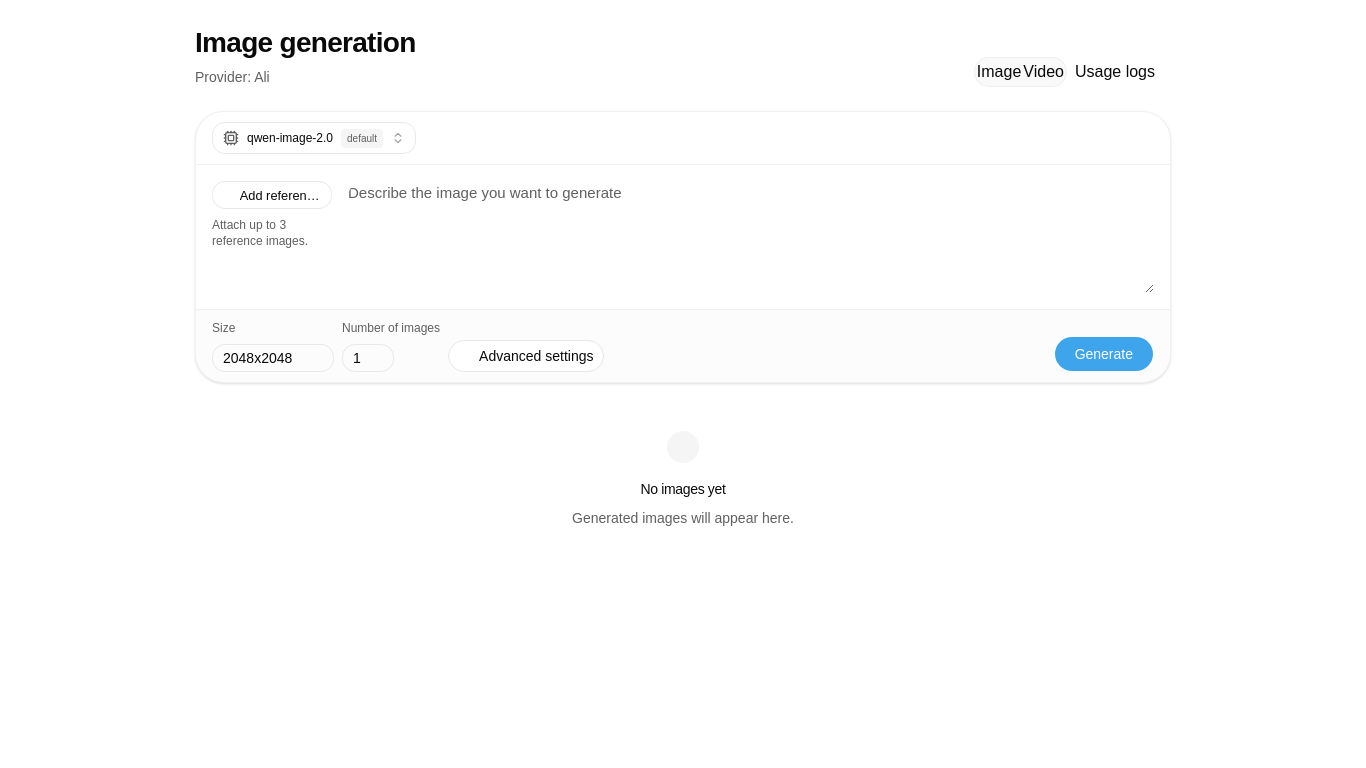
ImagePlayground form › shows the OpenAI error.message from generateImages
Type "a red apple" into the text box with placeholder "Describe the image you want to generate" at (751, 237), box [348,181,1154,293]
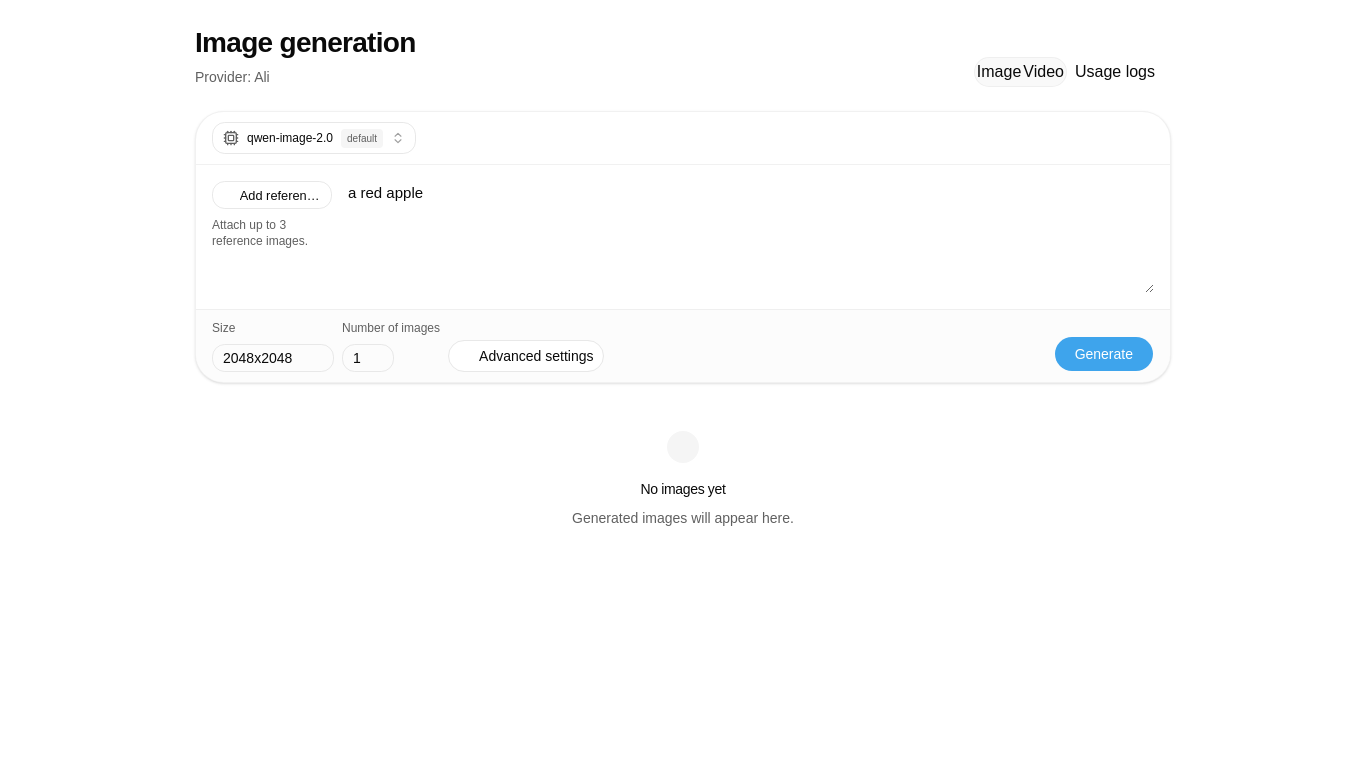
Click the button "Generate" at (1104, 354), box [1054,336,1154,372]
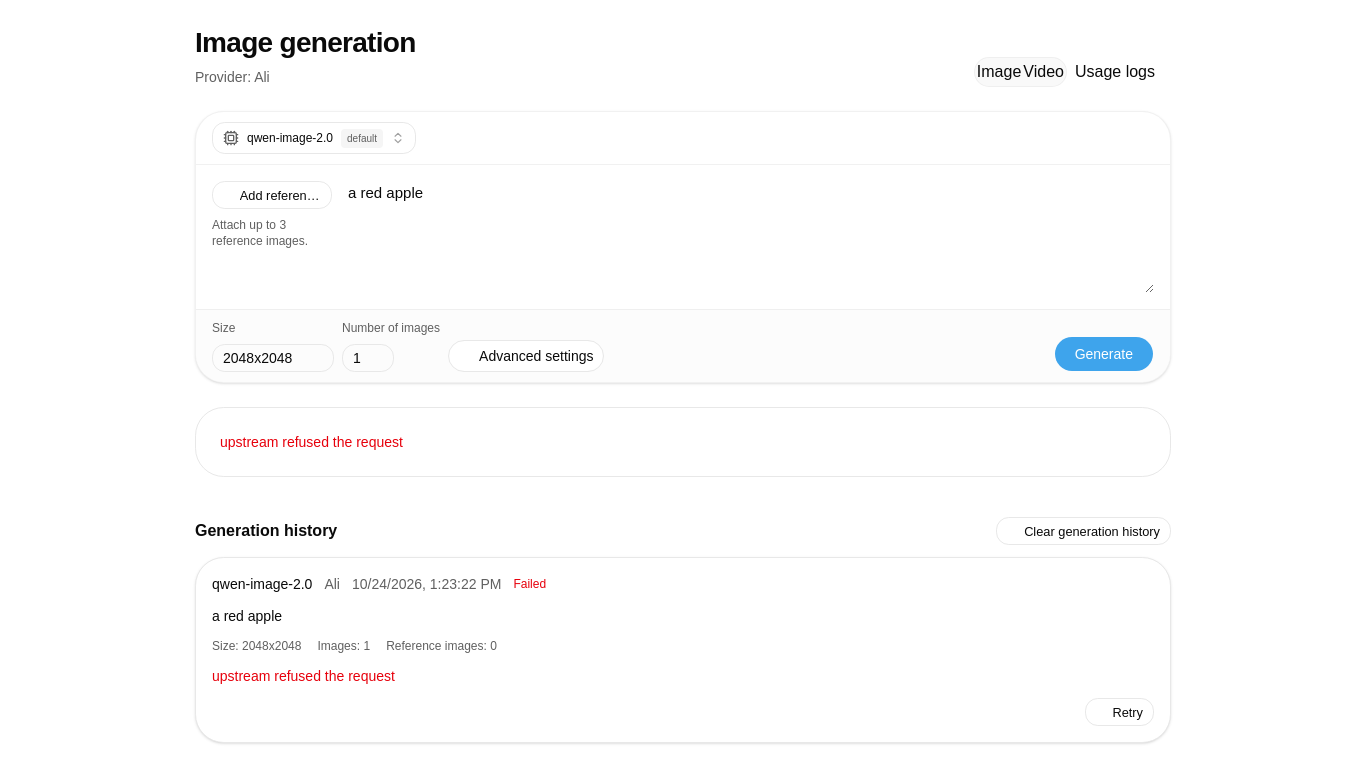
Expected: the text "upstream refused the request" is shown, [220,434,403,450]
